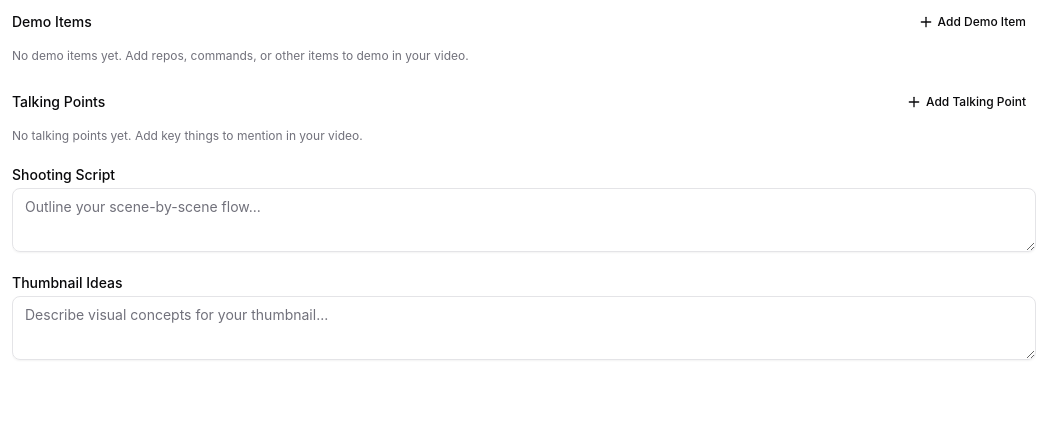
Test: ProductionTab › discards changes when Discard is clicked
This screenshot has width=1048, height=446.
Type "Scene 1" into the text box labelled "Shooting Script" at (524, 220), box [12,188,1036,252]
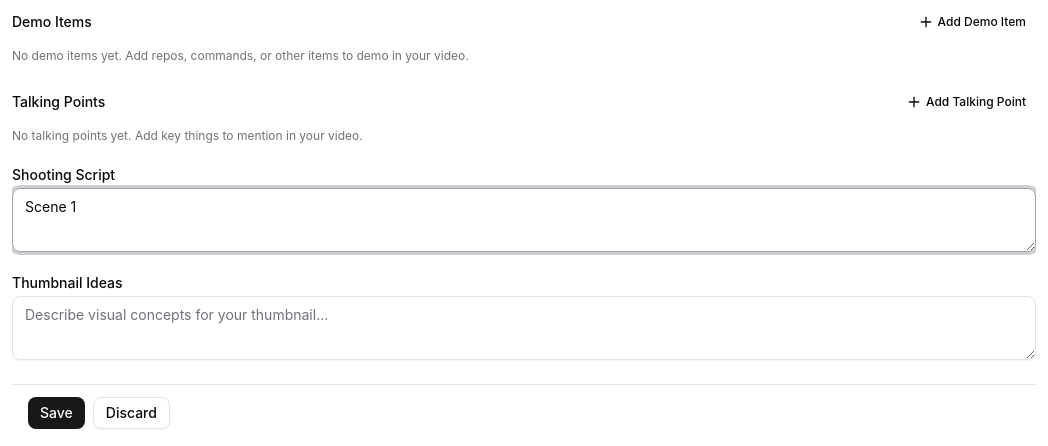
Click the button "Discard" at (131, 413), box [93,397,170,429]
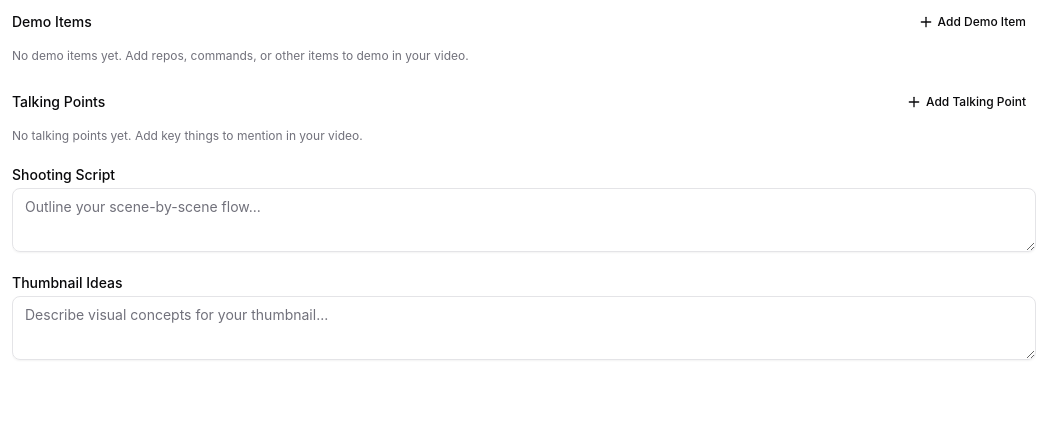
Check: the text box labelled "Shooting Script" is empty, box [12,188,1036,252]
Check: the button "Save" is gone
